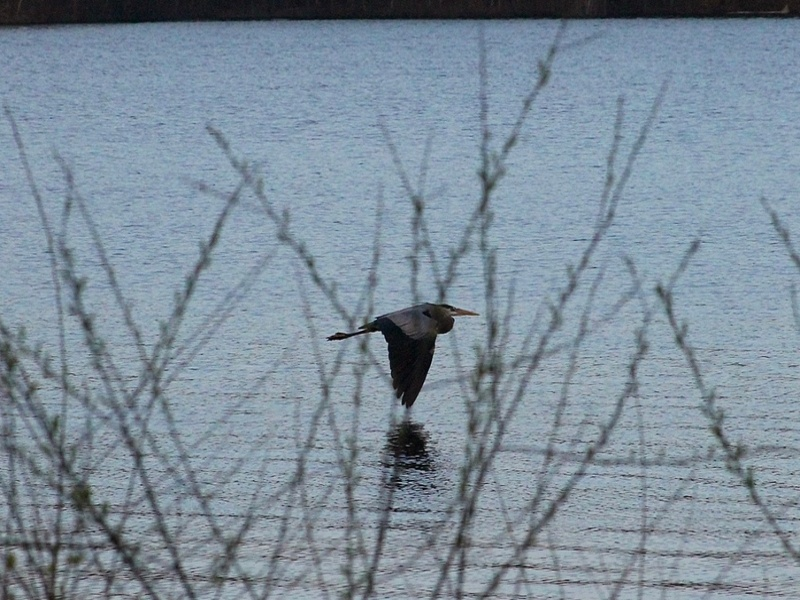heron: (323, 294, 478, 411)
